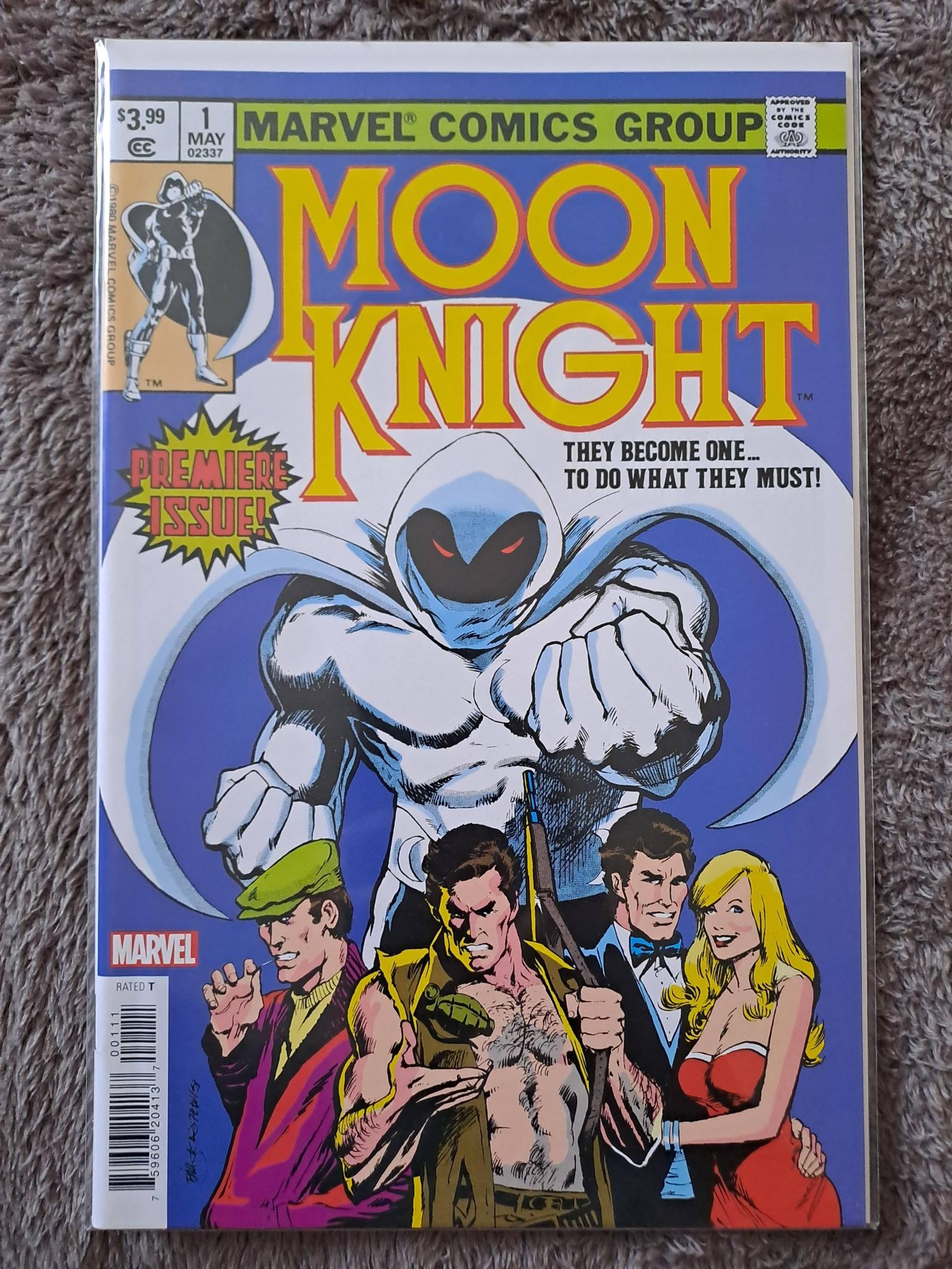comic: (94, 41, 879, 1230)
